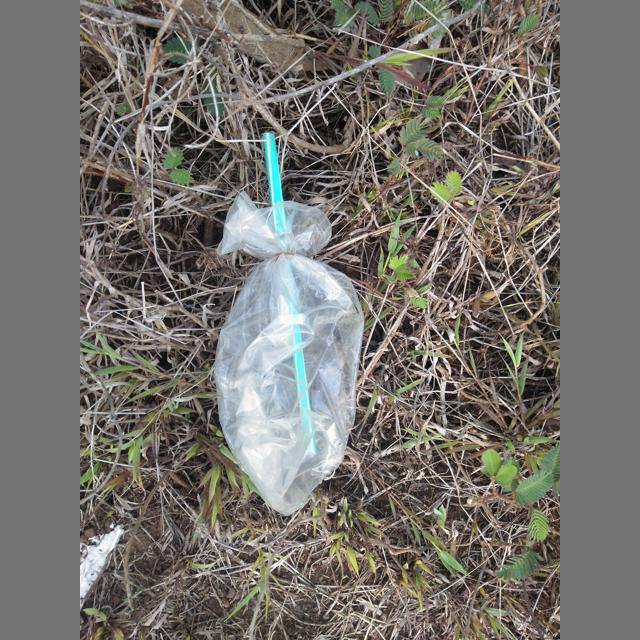litter: (214, 190, 364, 516), (263, 133, 317, 454)
